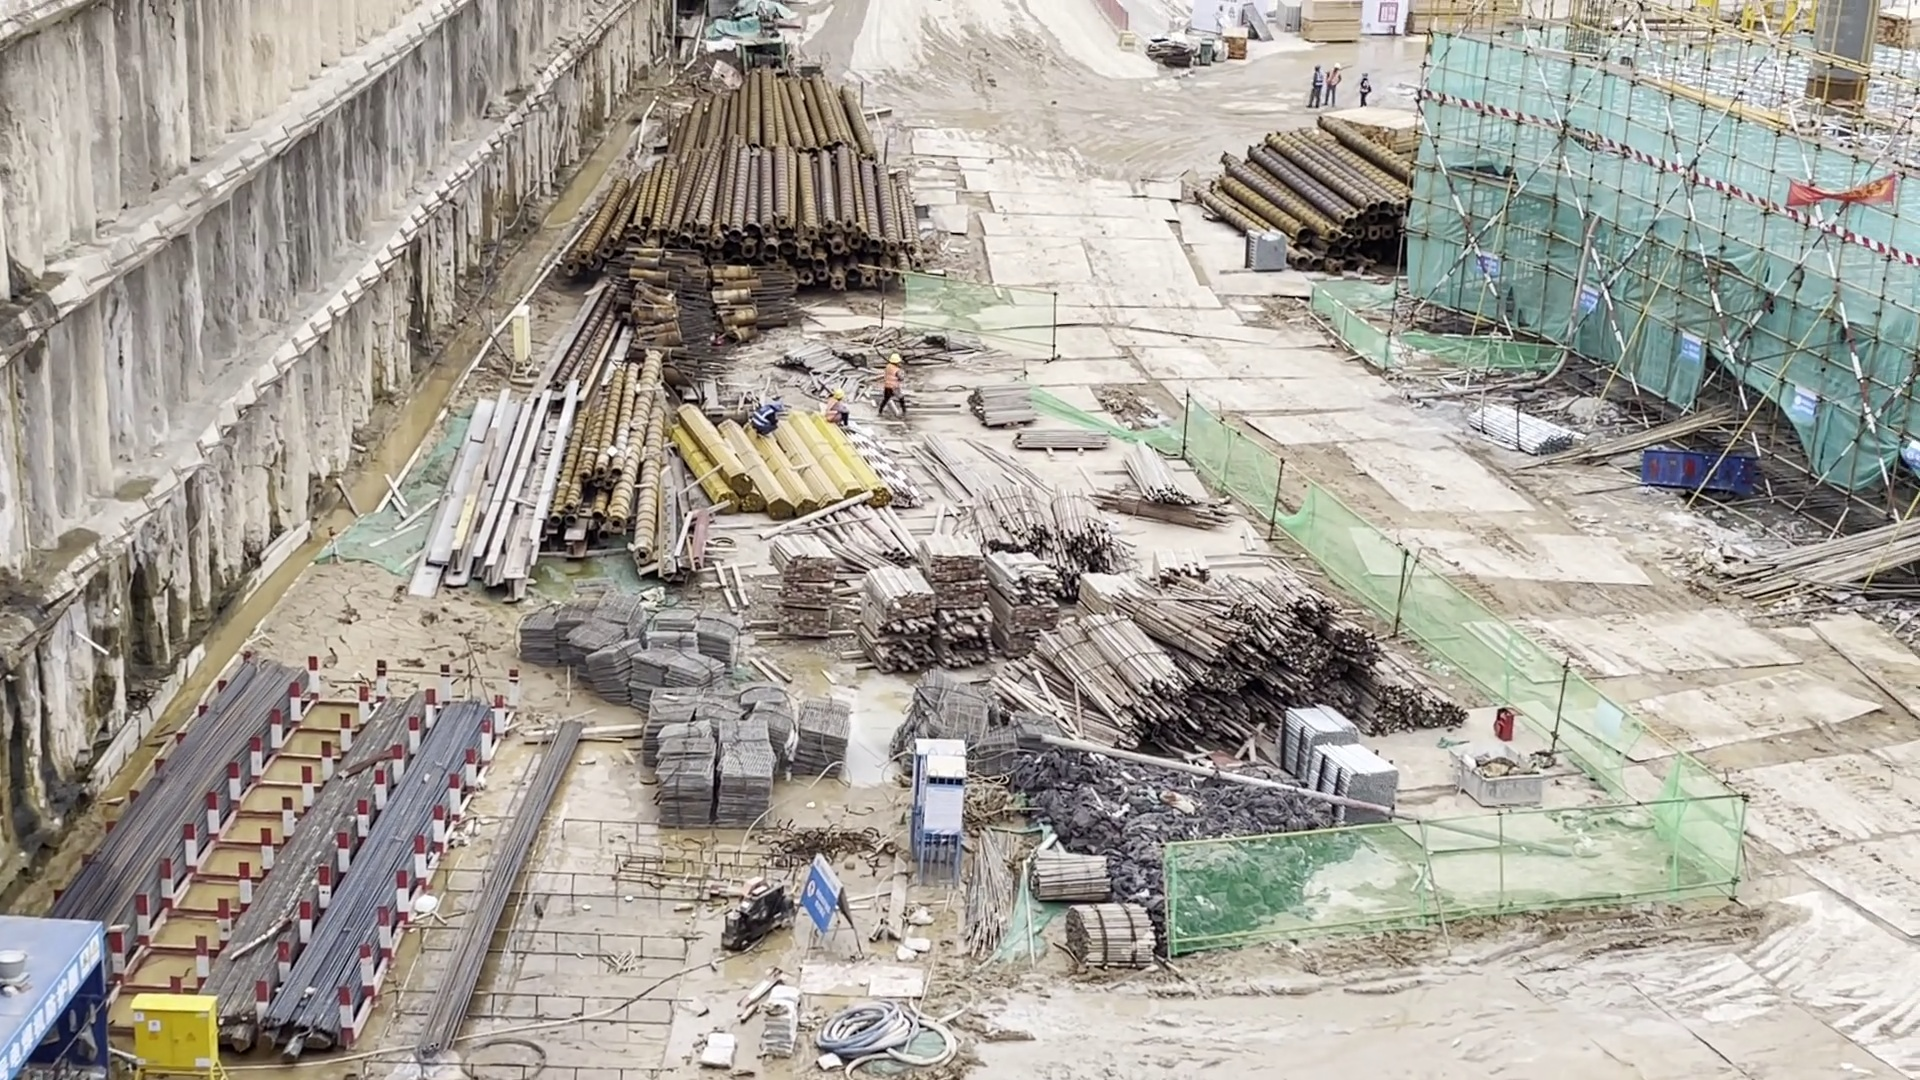brick: (1276, 704, 1402, 823)
ebox: (129, 991, 222, 1080)
helmet: (885, 351, 904, 366), (774, 400, 788, 411), (833, 387, 844, 397), (1313, 62, 1322, 71), (1334, 62, 1341, 71), (1362, 72, 1370, 77)
hopper: (1448, 743, 1550, 807), (1643, 446, 1762, 492)
person: (877, 346, 911, 418), (749, 394, 789, 444), (824, 385, 853, 428), (1309, 62, 1325, 115), (1328, 61, 1343, 105), (1359, 70, 1370, 107)
rebar: (101, 665, 585, 992)
slogan: (5, 945, 107, 1060)
vest: (748, 406, 779, 430), (824, 397, 844, 423), (884, 364, 902, 391), (1326, 73, 1340, 88), (1312, 72, 1323, 88)
wood: (1002, 561, 1485, 715), (754, 481, 1126, 661)
